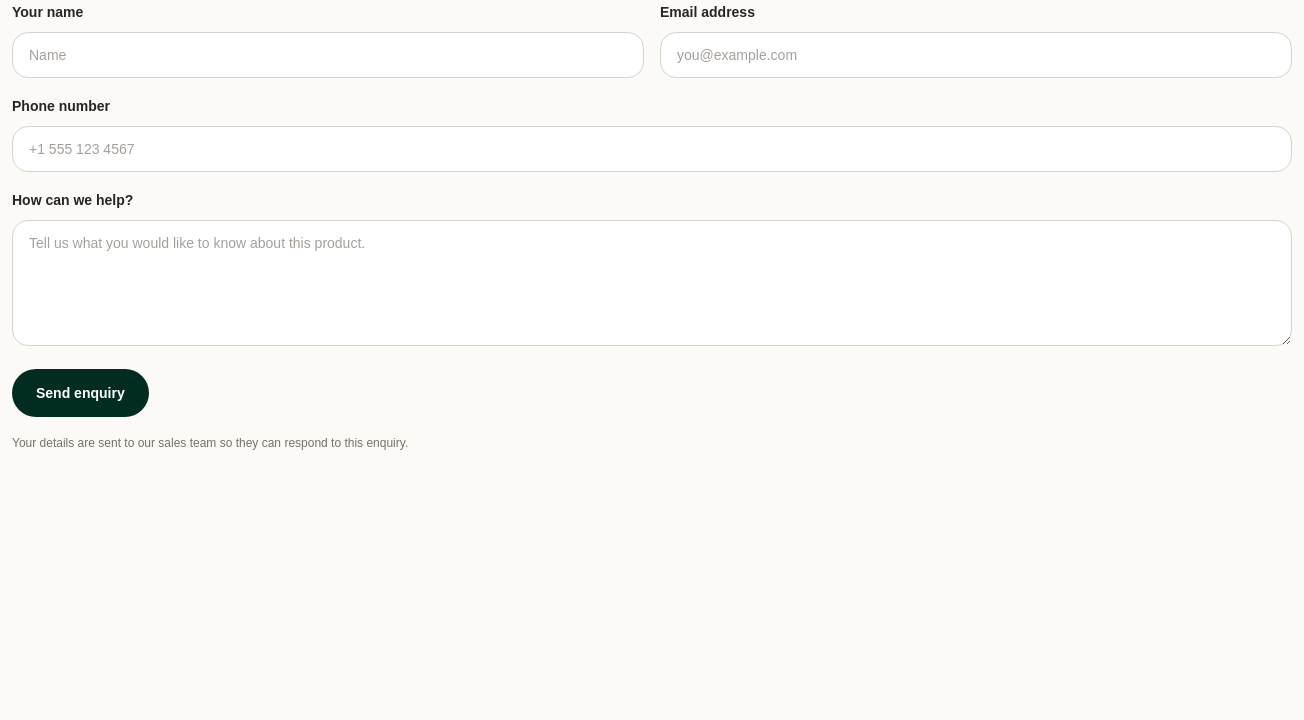
Scenario: EnquiryFormFeature › shows an error and keeps the form available if submission fails
Type "Asha Rao" into the field labelled "Your name".
click(328, 55); type("Asha Rao")  # box [12,32,644,78]
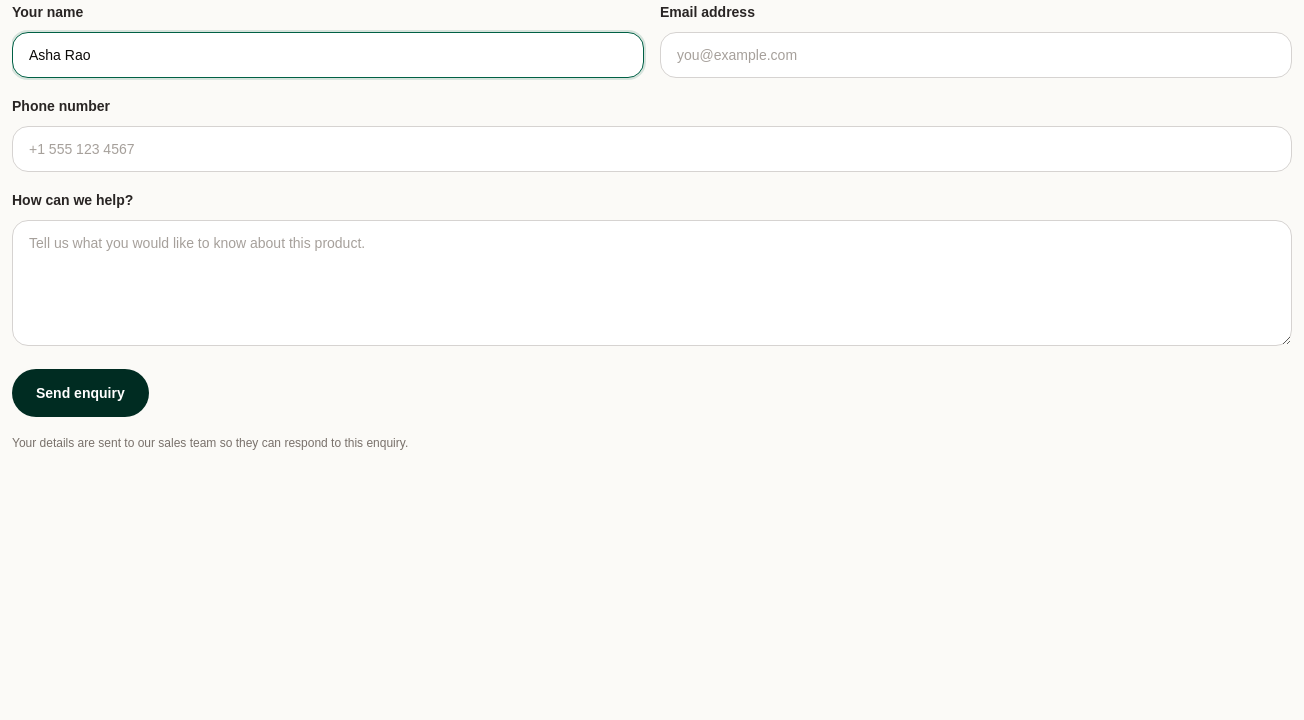
Type "asha@example.com" into the field labelled "Email address".
click(976, 55); type("asha@example.com")  # box [660,32,1292,78]
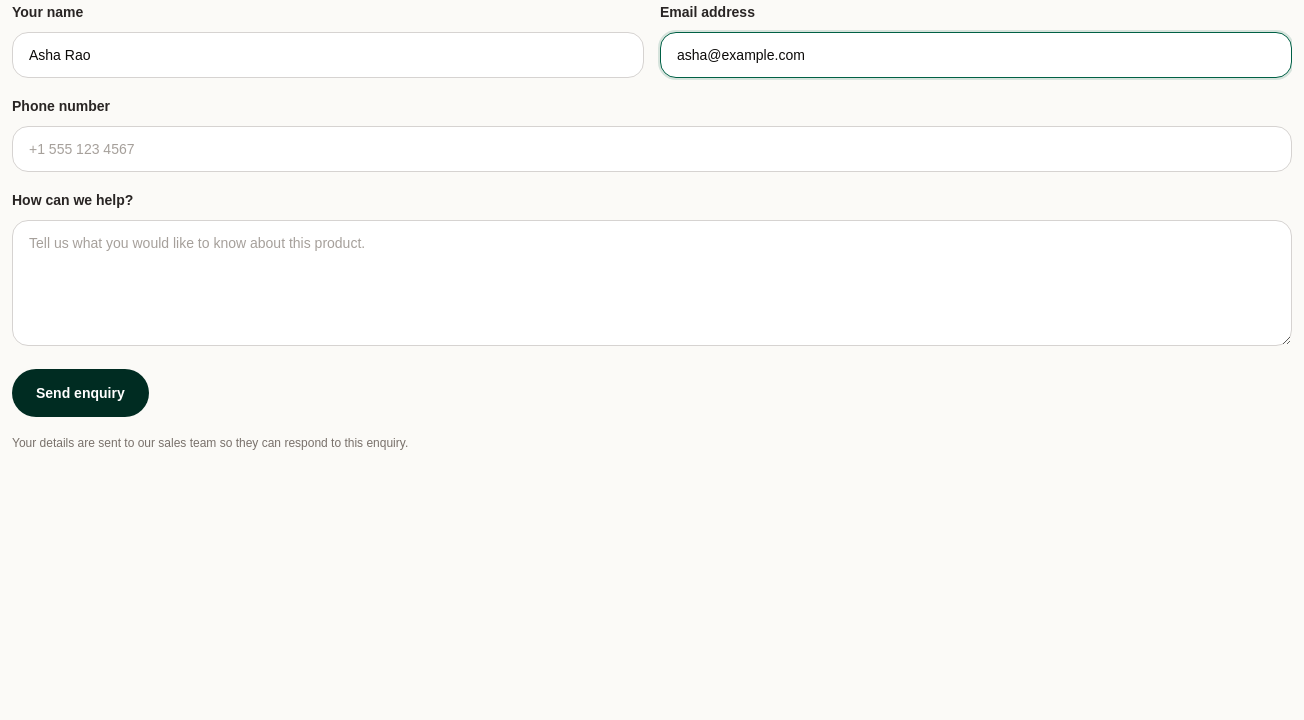
Type "+91 98765 43210" into the field labelled "Phone number".
click(652, 149); type("+91 98765 43210")  # box [12,126,1292,172]
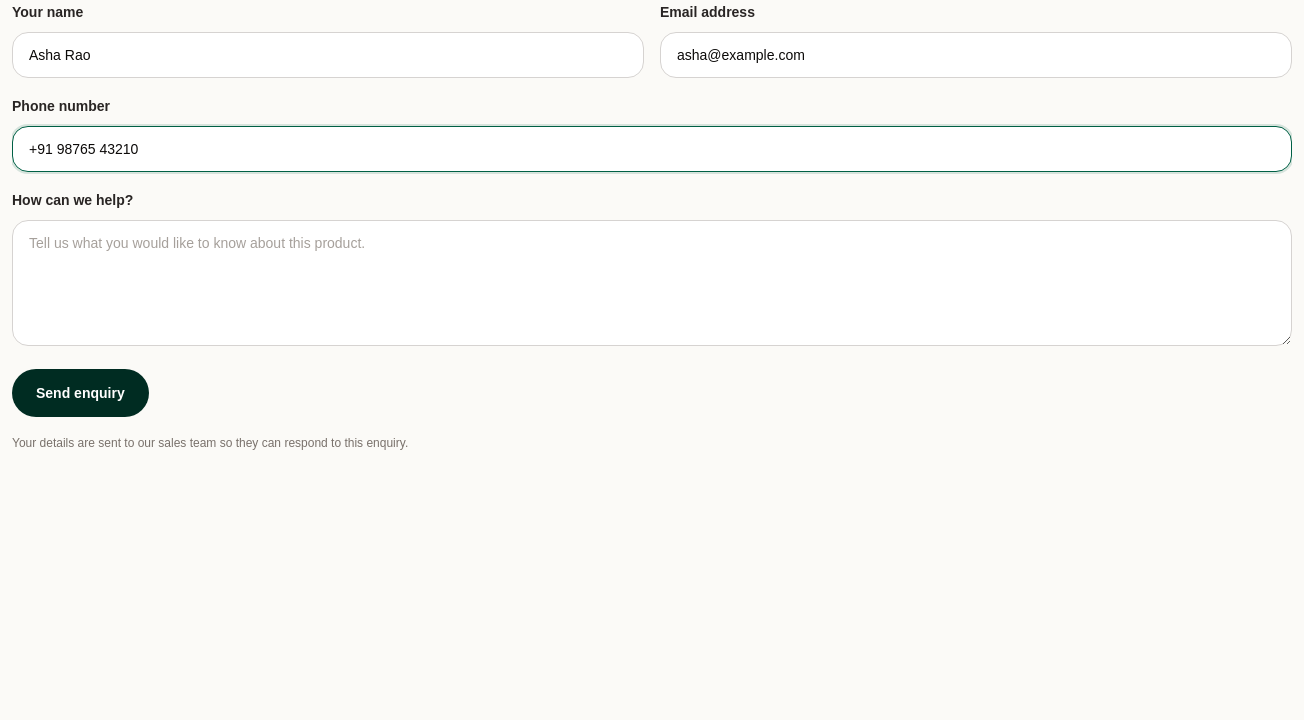
Type "Please share more information about delivery." into the text box labelled "How can we help?".
click(652, 283); type("Please share more information about delivery.")  # box [12,220,1292,346]
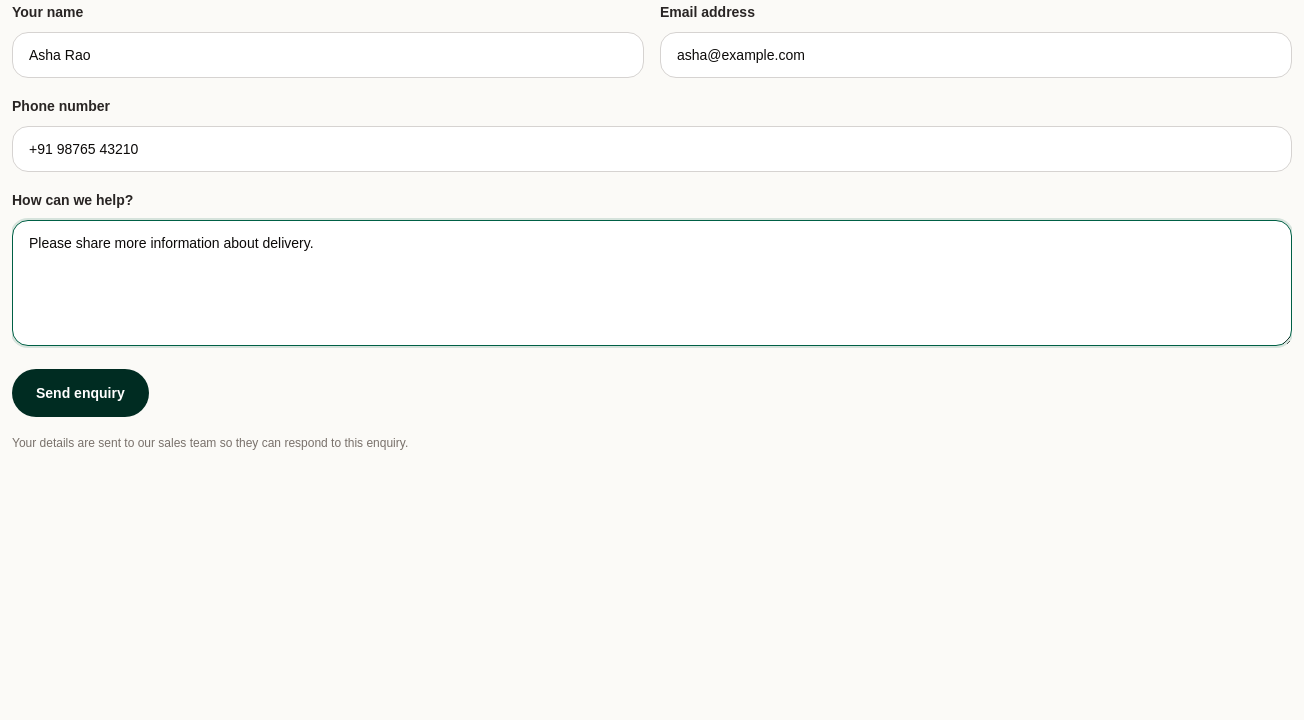
Click the button "Send enquiry".
click(80, 393)  # box [12,369,149,417]
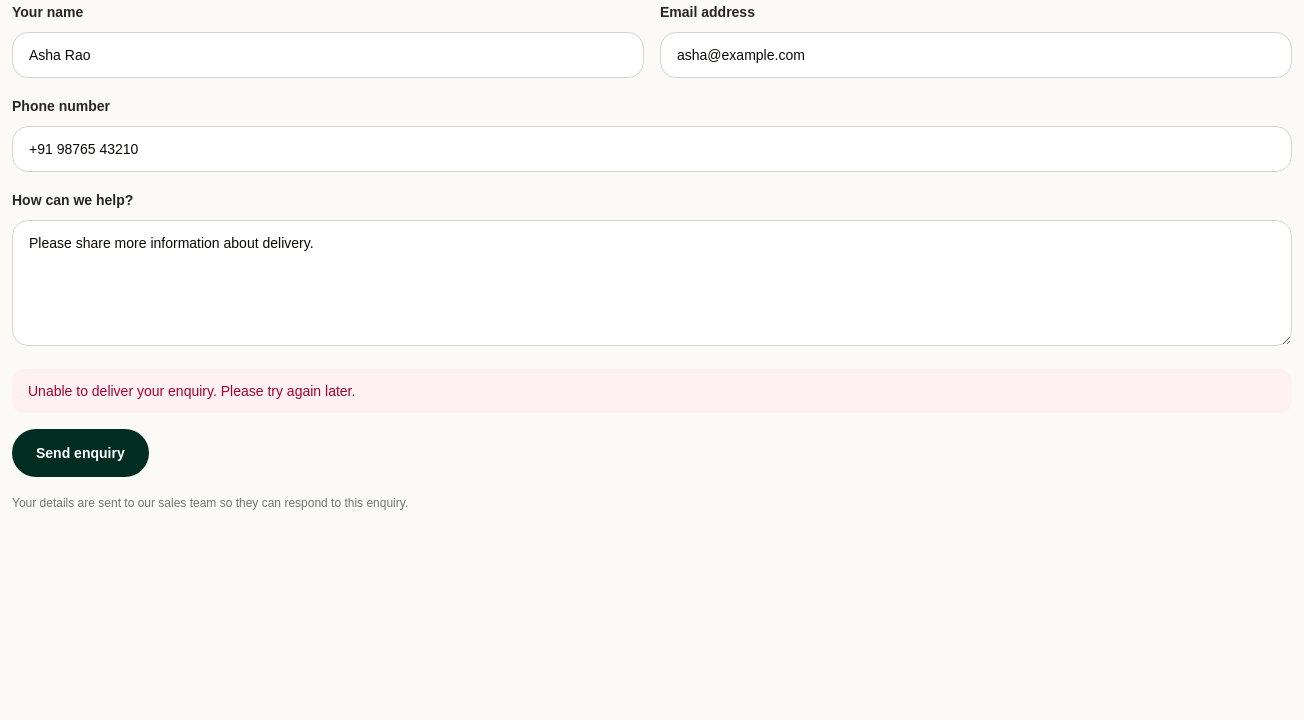
Expected: the button "Send enquiry" is shown, [12,429,149,477]
Result: the message shows "Unable to deliver your enquiry" at [28,383,355,399]
